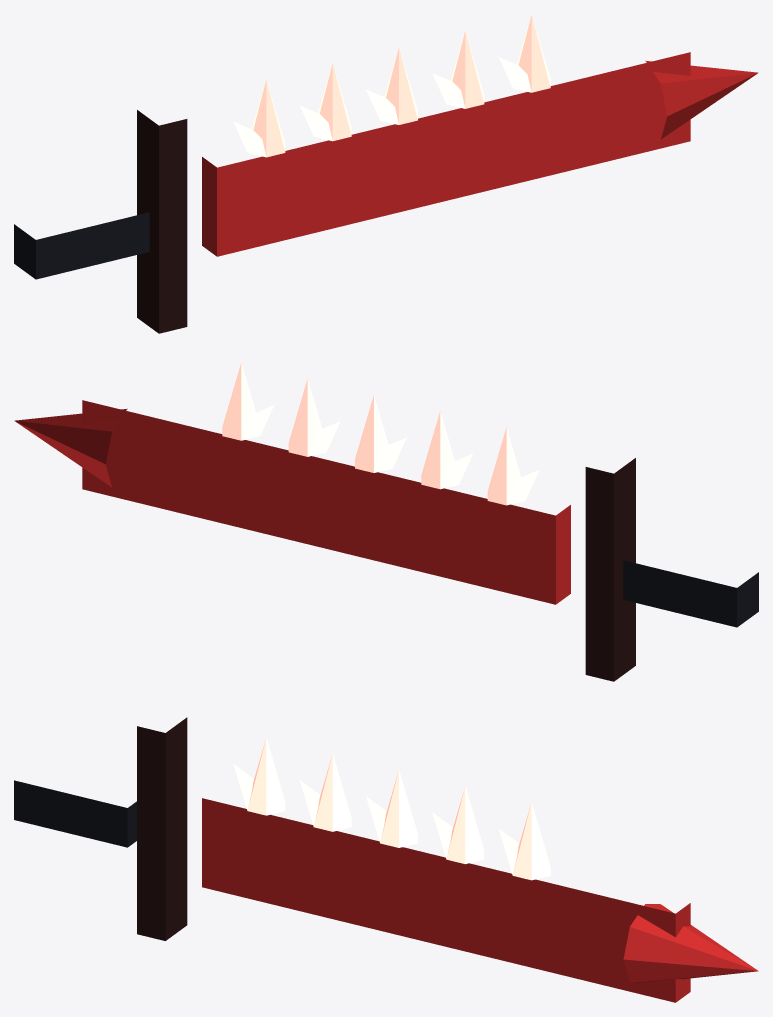
Rendered from desolator.glb.
The picture shows the model from 3 angles, top to bottom: view 1: azimuth 30°, elevation 25°; view 2: azimuth 150°, elevation 25°; view 3: azimuth 330°, elevation 25°; orthographic projection.
Parts seen in each view (by area): view 1: desolator-blade, desolator-guard, desolator-grip, desolator-tip, desolator-tooth-3, desolator-tooth-4, desolator-tooth-0, desolator-tooth-1, desolator-tooth-2; view 2: desolator-blade, desolator-guard, desolator-grip, desolator-tip, desolator-tooth-3, desolator-tooth-4, desolator-tooth-0, desolator-tooth-1, desolator-tooth-2; view 3: desolator-blade, desolator-guard, desolator-tip, desolator-grip, desolator-tooth-3, desolator-tooth-0, desolator-tooth-1, desolator-tooth-4, desolator-tooth-2.
Part boxes in pixels (bbox=[...]): desolator-blade: bbox=[202, 52, 690, 256]; desolator-guard: bbox=[137, 110, 187, 333]; desolator-grip: bbox=[14, 212, 149, 279]; desolator-tip: bbox=[645, 60, 758, 139]; desolator-tooth-3: bbox=[432, 31, 484, 108]; desolator-tooth-4: bbox=[498, 14, 550, 92]; desolator-tooth-0: bbox=[233, 79, 285, 157]; desolator-tooth-1: bbox=[300, 63, 351, 141]; desolator-tooth-2: bbox=[366, 47, 417, 124]; desolator-blade: bbox=[82, 400, 570, 604]; desolator-guard: bbox=[585, 458, 635, 681]; desolator-grip: bbox=[623, 560, 758, 627]; desolator-tip: bbox=[14, 408, 127, 487]; desolator-tooth-3: bbox=[288, 379, 340, 456]; desolator-tooth-4: bbox=[222, 362, 274, 440]; desolator-tooth-0: bbox=[487, 427, 539, 505]; desolator-tooth-1: bbox=[421, 411, 472, 489]; desolator-tooth-2: bbox=[355, 395, 406, 472]; desolator-blade: bbox=[202, 798, 690, 1002]; desolator-guard: bbox=[137, 717, 187, 940]; desolator-tip: bbox=[623, 904, 758, 982]; desolator-grip: bbox=[14, 780, 136, 847]; desolator-tooth-3: bbox=[432, 786, 484, 864]; desolator-tooth-0: bbox=[233, 737, 285, 815]; desolator-tooth-1: bbox=[299, 753, 351, 831]; desolator-tooth-4: bbox=[499, 802, 550, 880]; desolator-tooth-2: bbox=[366, 770, 417, 847].
Size of the model in its own units: 1.55 by 0.44 by 0.16.
